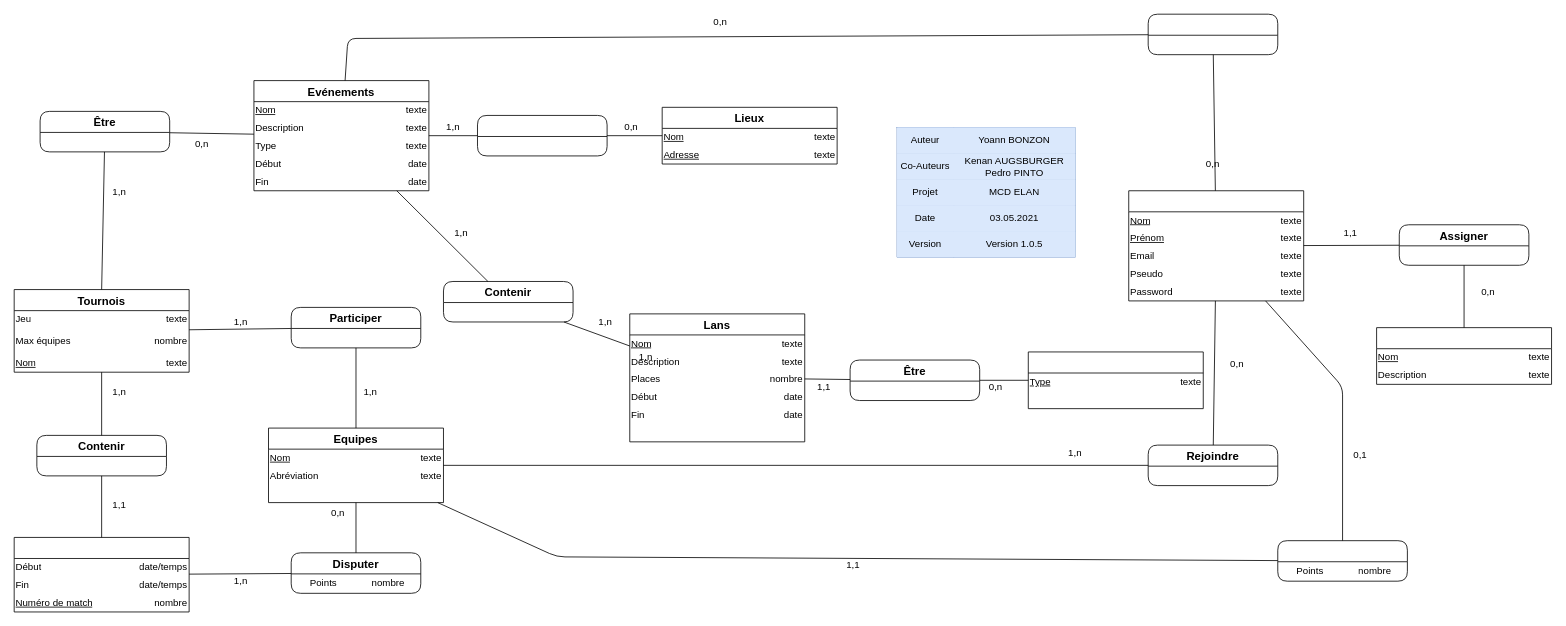
Some shapes in this 1566 by 626 pixel diagram are drawn without their labels. The shapes that lost their labels are listed below. From the top down, each one's box as (x1, y1, x2, y2) in pixels, then its label:
(1147, 13, 1278, 55): S'inscrire
(477, 115, 607, 156): Se trouver
(1128, 190, 1304, 301): Utilisateur
(1376, 327, 1552, 384): Rôles
(1027, 351, 1203, 409): Etats
(13, 537, 189, 612): Matches
(1277, 540, 1407, 581): Créer
